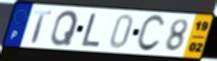0: (108, 13, 135, 51)
8: (164, 18, 190, 53)
C: (134, 14, 166, 54)
L: (80, 12, 102, 48)
Q: (49, 9, 80, 47)
T: (31, 9, 53, 44)
